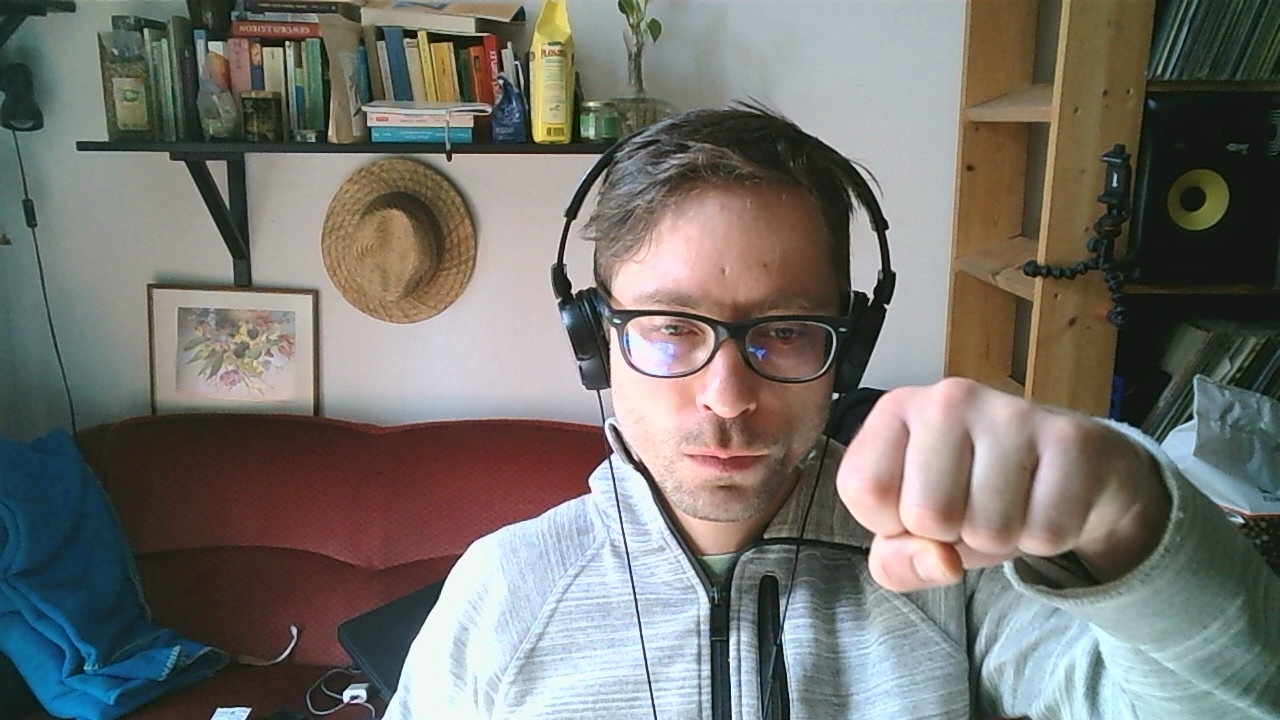yes: (833, 374, 1145, 598)
